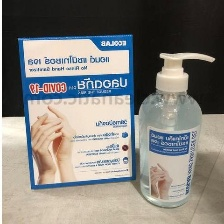book: (15, 29, 139, 193)
cleaning_solution: (134, 49, 216, 210)
